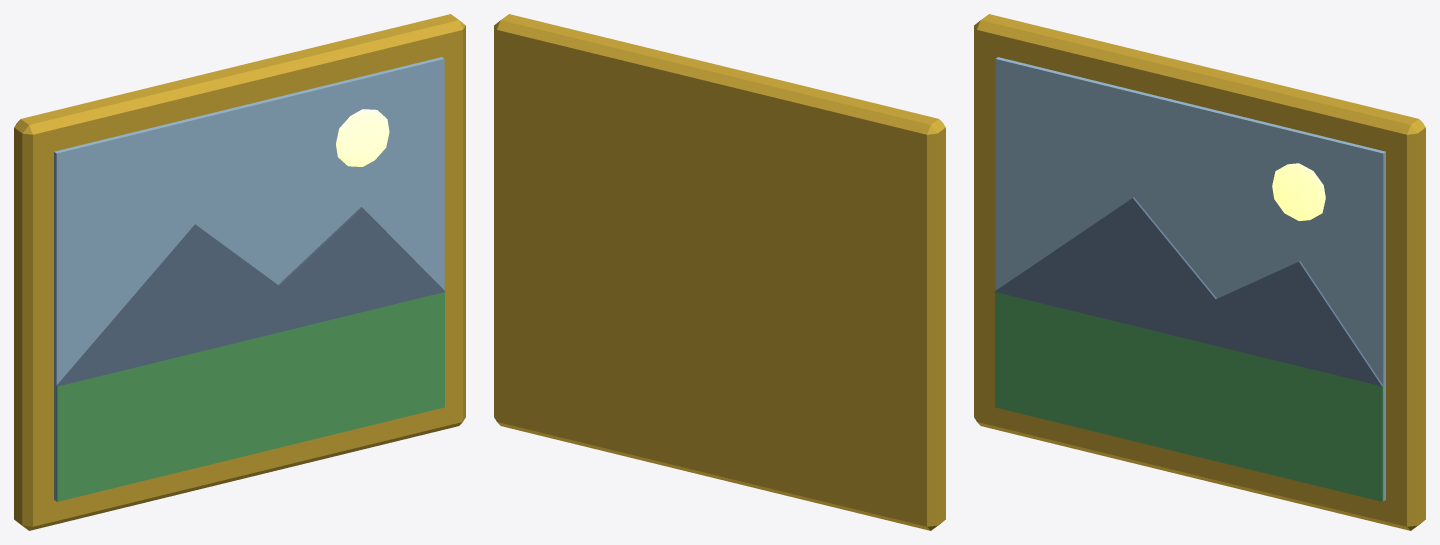
Rendered from painting.glb.
3 views of the same model, side by side, from view 1: azimuth 30°, elevation 25°; view 2: azimuth 150°, elevation 25°; view 3: azimuth 330°, elevation 25° (orthographic).
Visible parts, largest first — view 1: painting; view 2: painting; view 3: painting.
Boxes of the visible parts, x1,y1,x2,y2 form: painting: [14, 14, 465, 530]; painting: [494, 14, 945, 530]; painting: [974, 14, 1425, 530].
Size of the model in its own units: 0.8 by 0.7 by 0.067.
